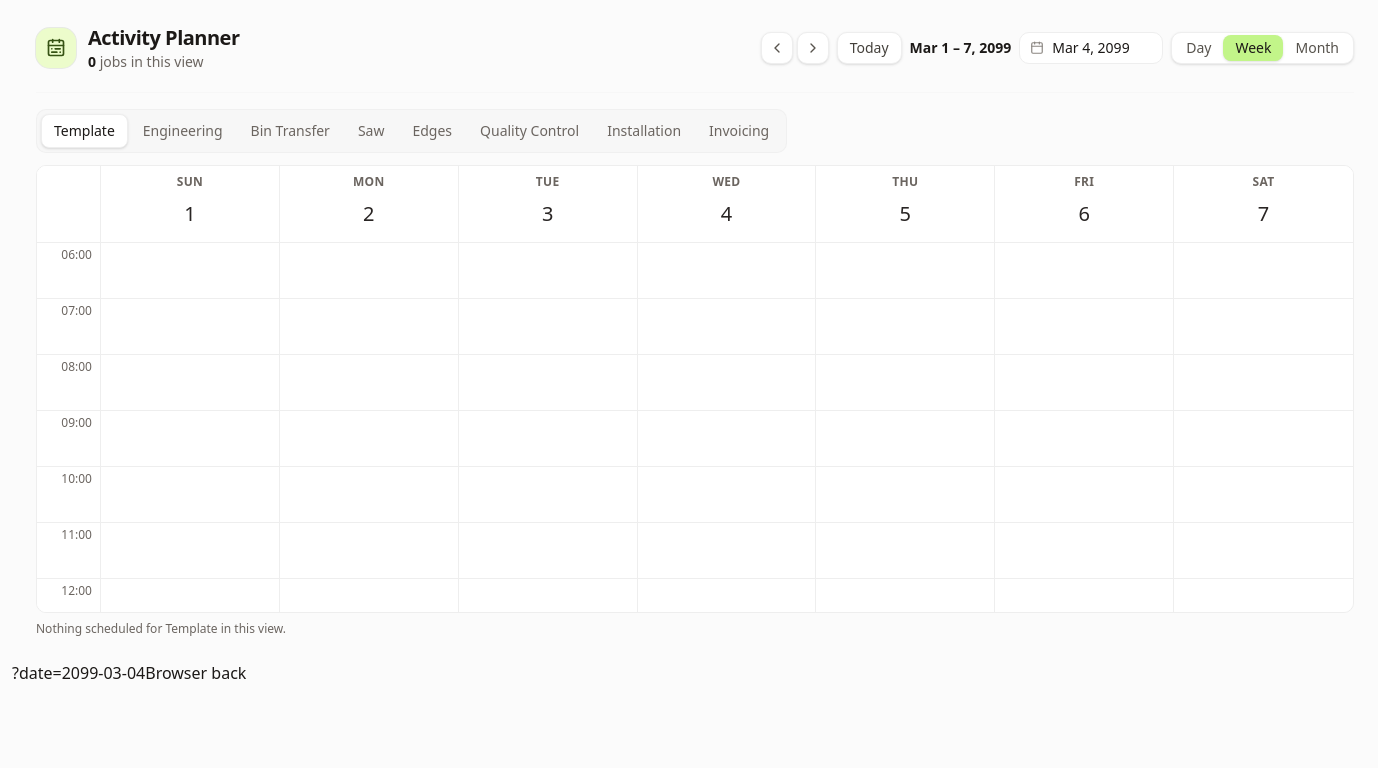
ActivityPlannerPage tabs › loads the chosen activity and keeps it in the address
The width and height of the screenshot is (1378, 768).
(page scrolled)
Click the tab "Saw": point(371, 131) top-left (345, 114), bottom-right (397, 148)
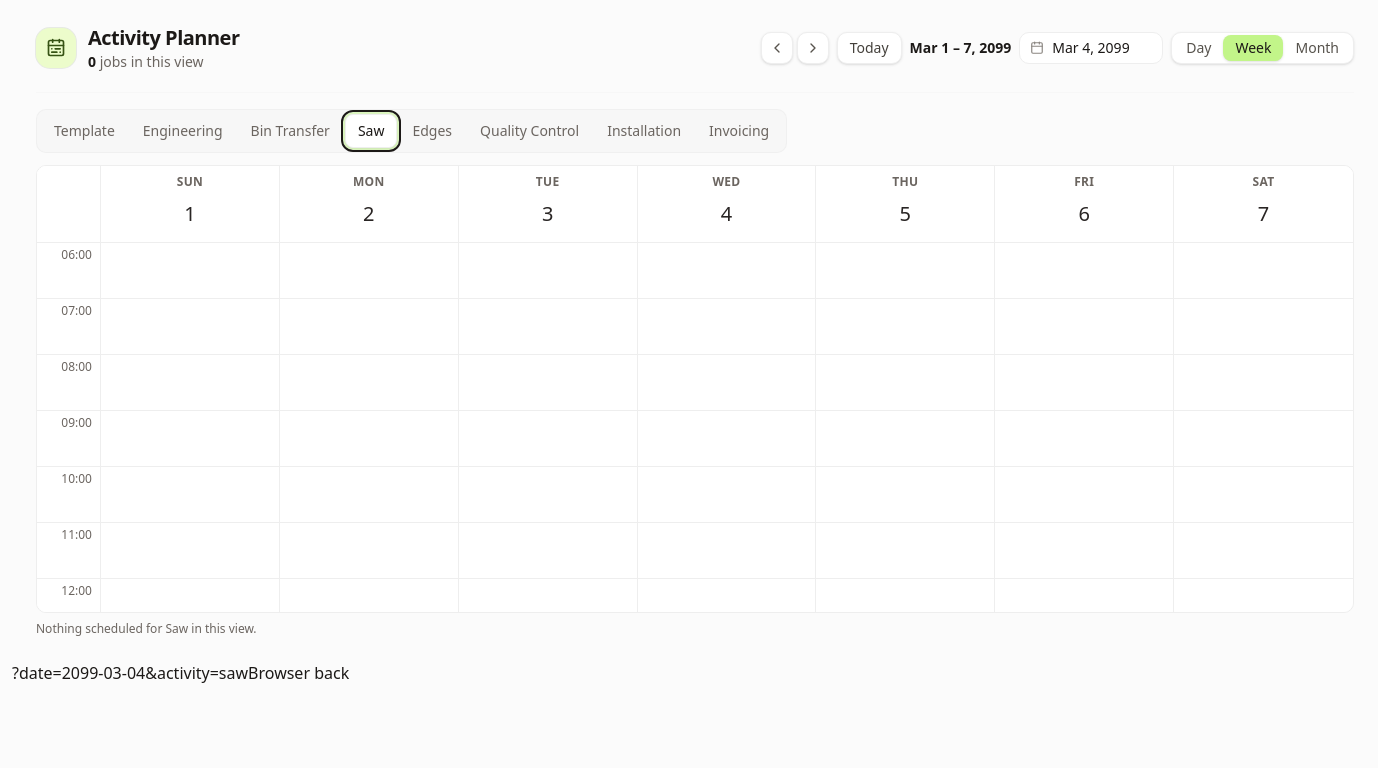
Check: the text with test id "search" shows "activity=saw", box top-left (12, 662), bottom-right (248, 684)
